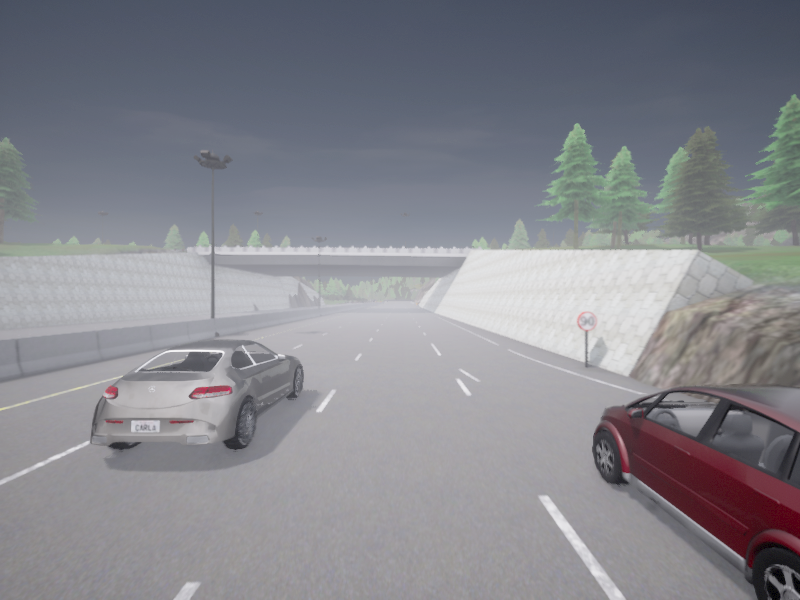vehicle: (594, 385, 799, 599), (90, 339, 302, 450)
